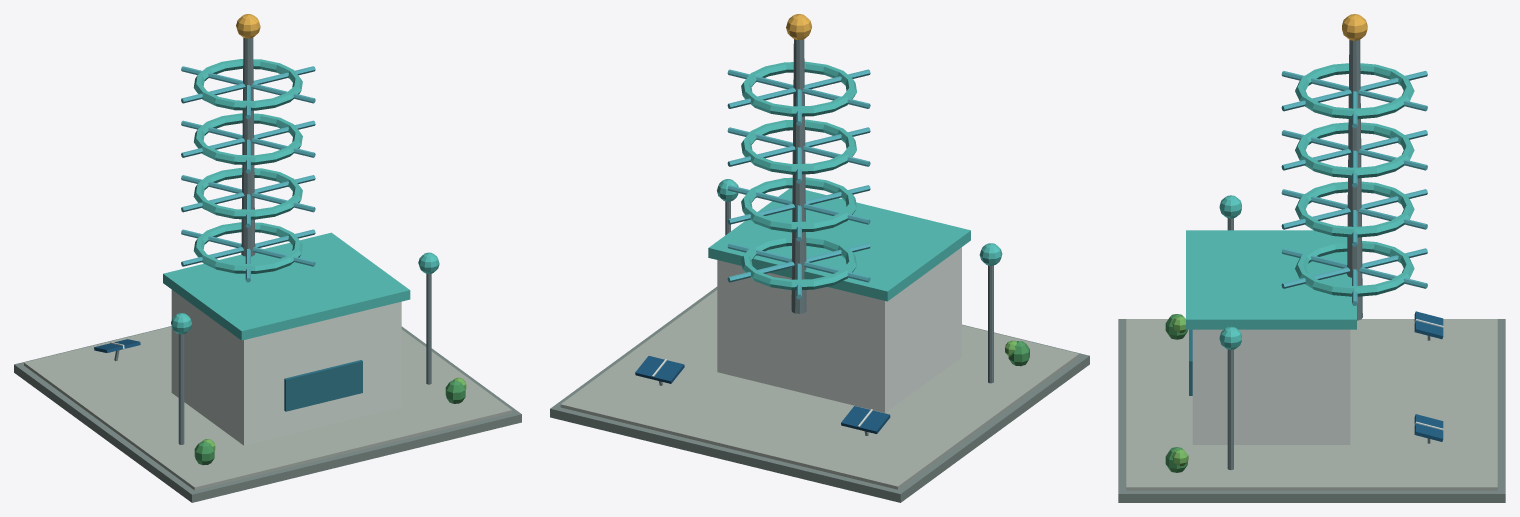
Rendered from uv_station_lv3.glb.
3 renders of one model, left to right at view 1: azimuth 30°, elevation 25°; view 2: azimuth 150°, elevation 25°; view 3: azimuth 270°, elevation 25°, orthographic. The views are drawn at different scales.
Parts seen in each view (by area): view 1: concrete, turquoise, white, pavement, glass, steel, glassDark, green; view 2: concrete, white, turquoise, pavement, glass, steel, solar; view 3: concrete, turquoise, white, pavement, glass, steel, solar, green, gold, foliage.
Part boxes in pixels (x1,y1,x2,y2): concrete: [24, 326, 511, 490]; turquoise: [163, 59, 439, 340]; white: [110, 290, 401, 445]; pavement: [14, 326, 521, 502]; glass: [181, 66, 315, 282]; steel: [114, 37, 431, 444]; glassDark: [284, 360, 362, 411]; green: [194, 380, 465, 465]; concrete: [560, 290, 1079, 489]; white: [652, 247, 961, 427]; turquoise: [708, 61, 1002, 301]; pavement: [550, 286, 1089, 502]; glass: [727, 69, 870, 299]; steel: [659, 39, 993, 435]; solar: [635, 356, 890, 433]; concrete: [1126, 319, 1497, 490]; turquoise: [1186, 63, 1414, 349]; white: [1192, 319, 1443, 444]; pavement: [1118, 319, 1505, 502]; glass: [1281, 71, 1427, 305]; steel: [1227, 39, 1430, 469]; solar: [1414, 311, 1443, 441]; green: [1165, 314, 1187, 472]; gold: [1342, 14, 1367, 40]; foliage: [1172, 316, 1188, 466].
Size of the model in its own units: 9.2 by 9.81 by 8.6.
